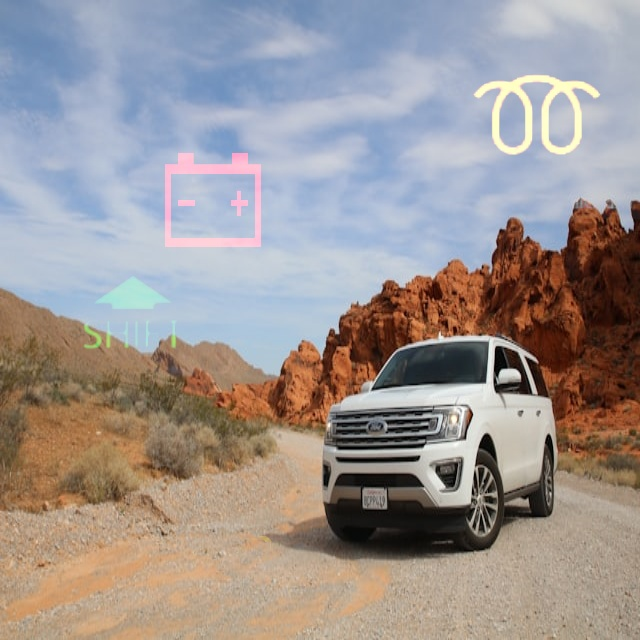symbol: (434, 13, 640, 219), (152, 477, 311, 636), (135, 122, 288, 275), (66, 246, 201, 381)
